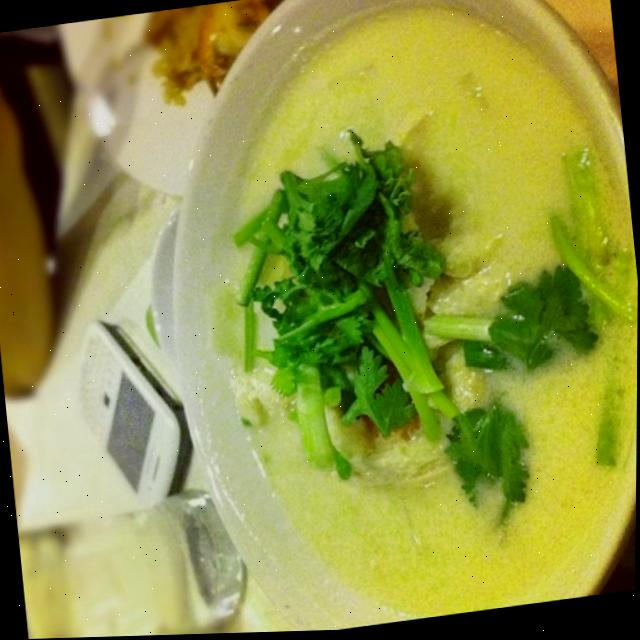汤锅炖物: (128, 0, 640, 637)
